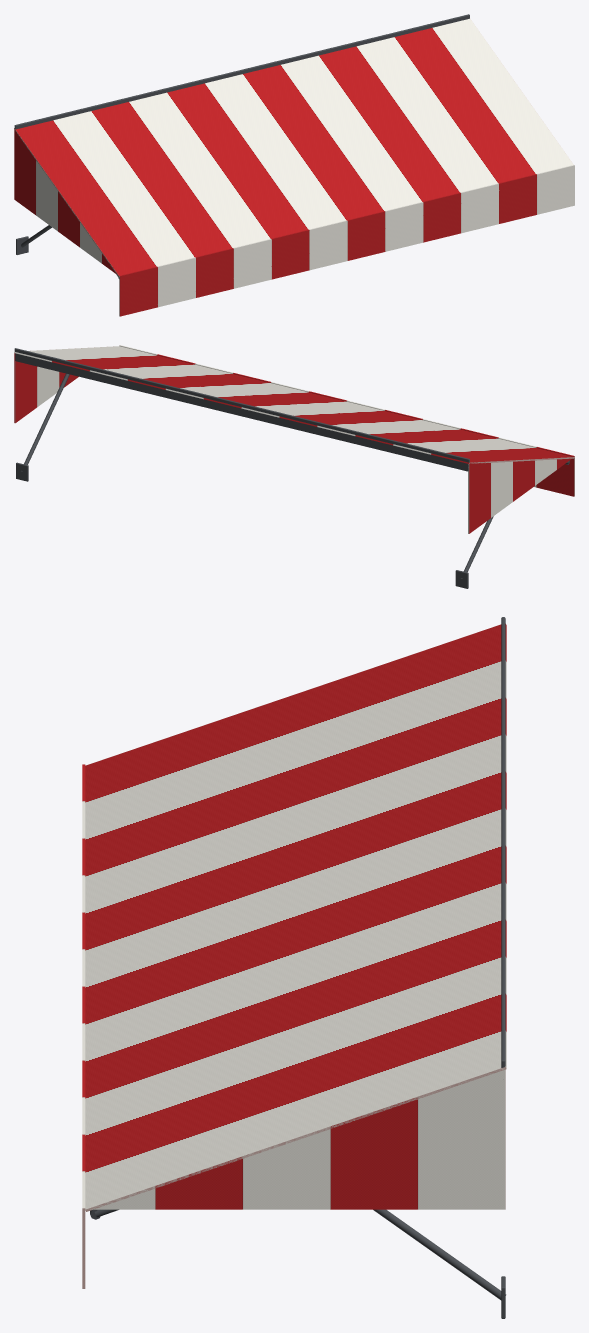
Rendered from shop_awning_flat.fbx.
3 views of the same model, one above another, from view 1: azimuth 30°, elevation 25°; view 2: azimuth 150°, elevation 25°; view 3: azimuth 270°, elevation 25° (orthographic). The views are drawn at different scales.
Visible parts, largest first — view 1: shop_awning_flat; view 2: shop_awning_flat; view 3: shop_awning_flat.
Part boxes in pixels (<box>): shop_awning_flat: <box>14,14,574,316</box>; shop_awning_flat: <box>14,345,574,588</box>; shop_awning_flat: <box>82,617,506,1318</box>.
Size of the model in its own units: 3 by 0.82 by 1.21.
2 materials, 1 textured.
